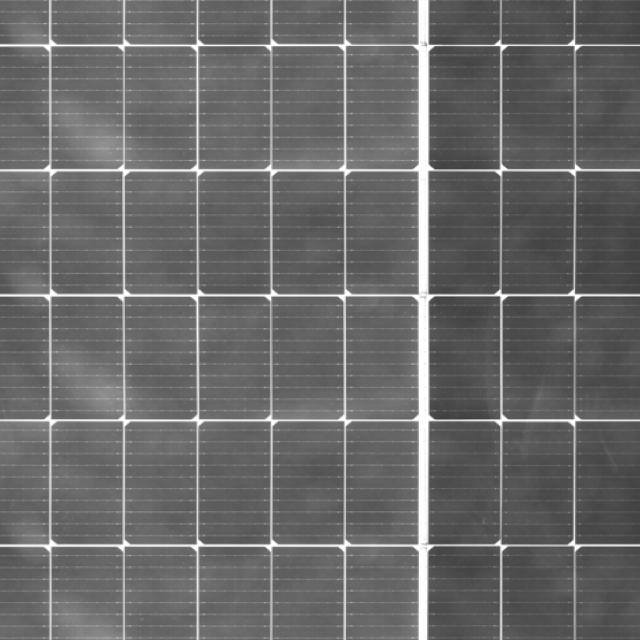CORRECT: (6, 0, 431, 422), (10, 401, 635, 634), (315, 0, 638, 434)
